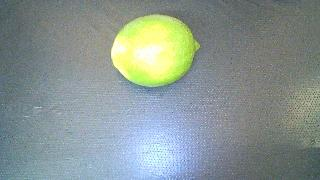EXPORTACION: (111, 14, 200, 87)
